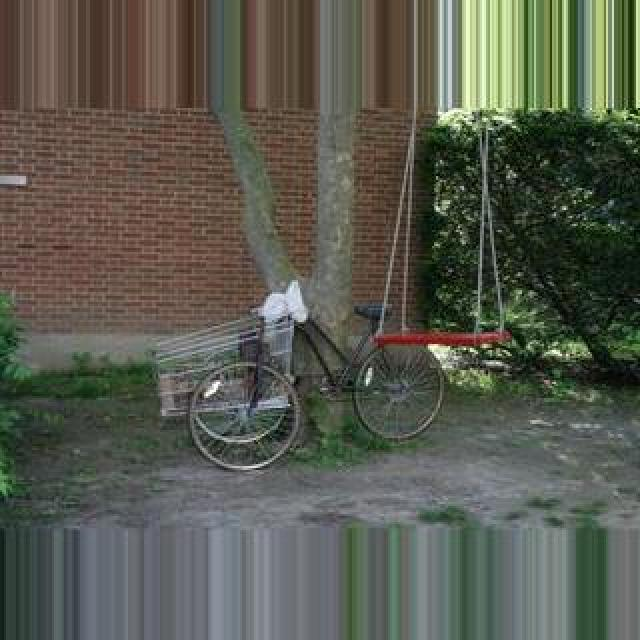Person: (174, 293, 444, 467)
